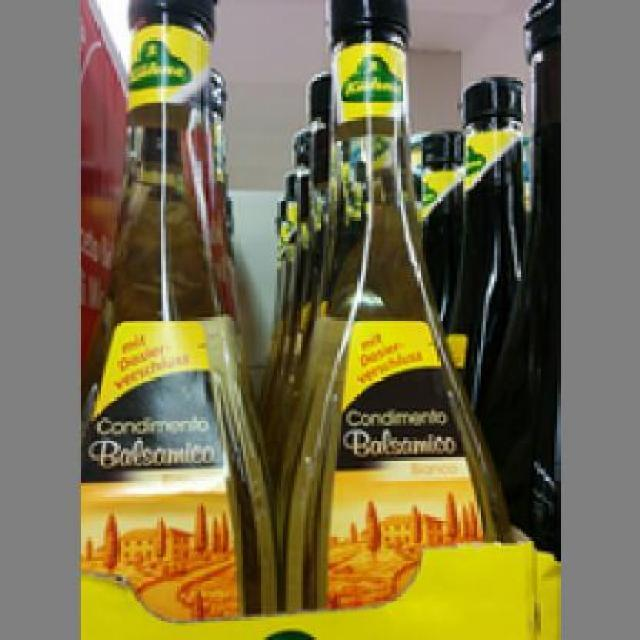Vinegar: (285, 0, 518, 609), (77, 0, 297, 620)
